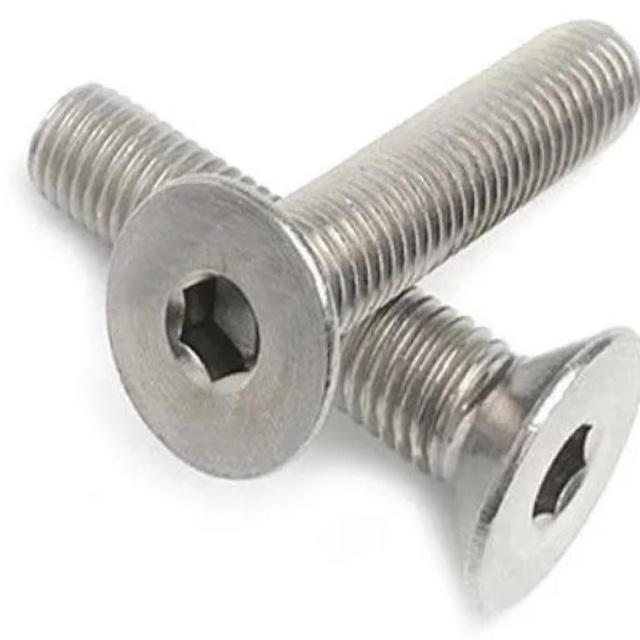allen: (91, 166, 347, 484), (458, 323, 640, 624)
